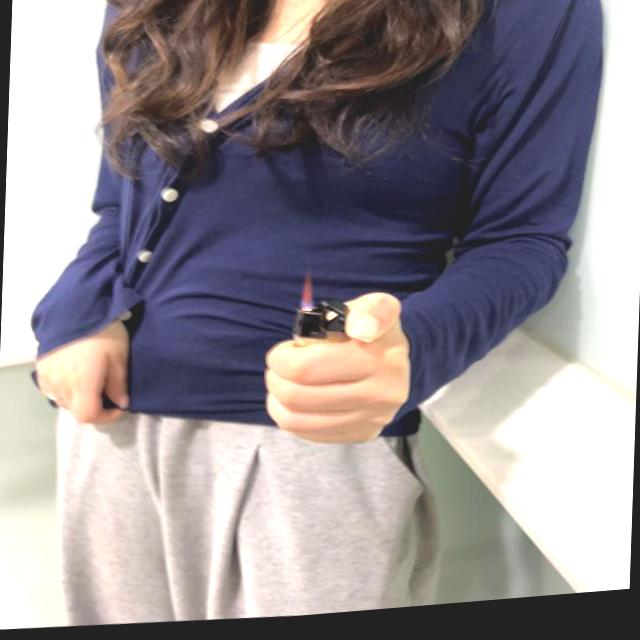helmet: (300, 274, 314, 315)
